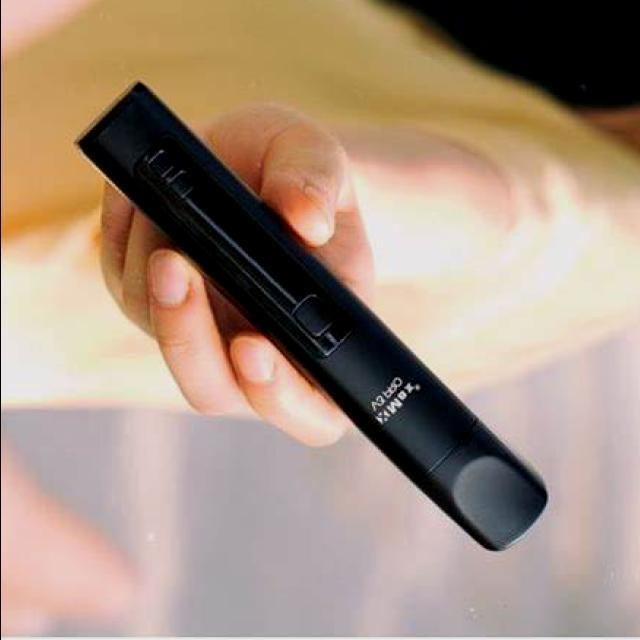Hazard: (68, 77, 554, 554)
